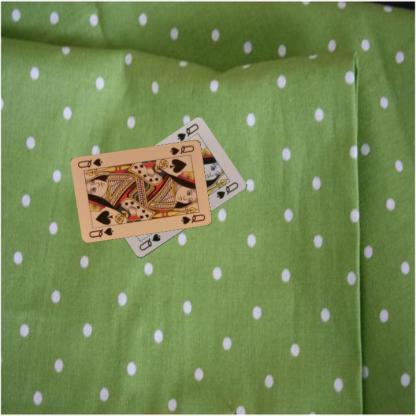Qs: (174, 121, 200, 144), (136, 231, 162, 253), (87, 224, 115, 238), (168, 142, 195, 156)
